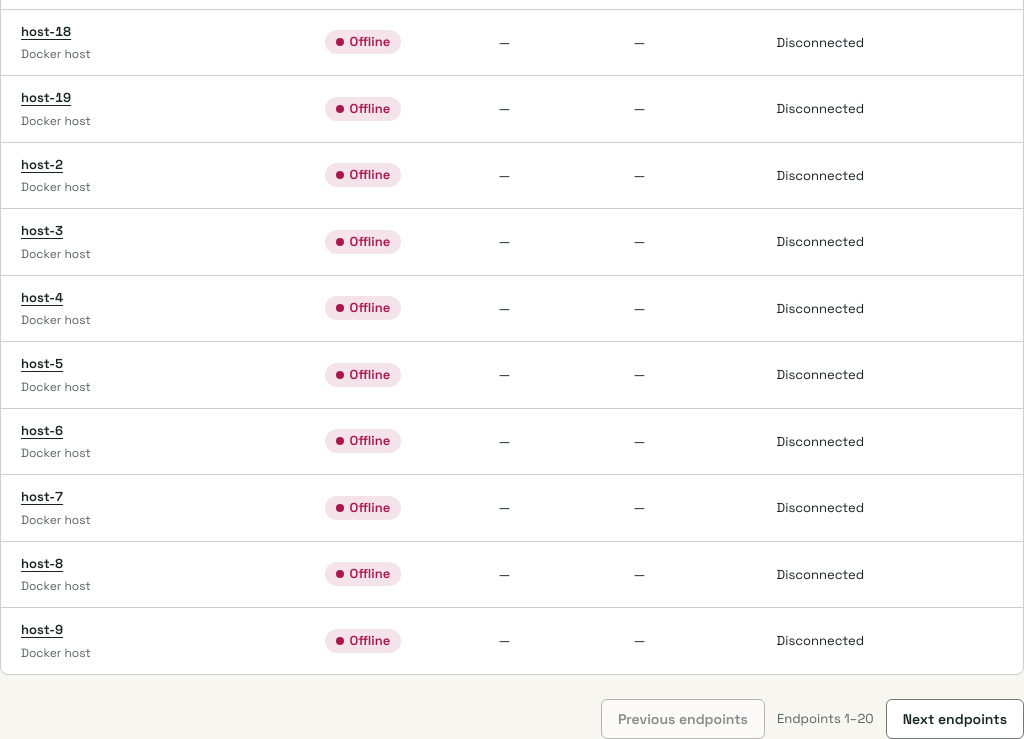
Test case: keeps endpoint discovery bounded at 20 per page
(page scrolled)
Click the button "Next endpoints" at (955, 719), box [886,699,1023,738]
(page scrolled)
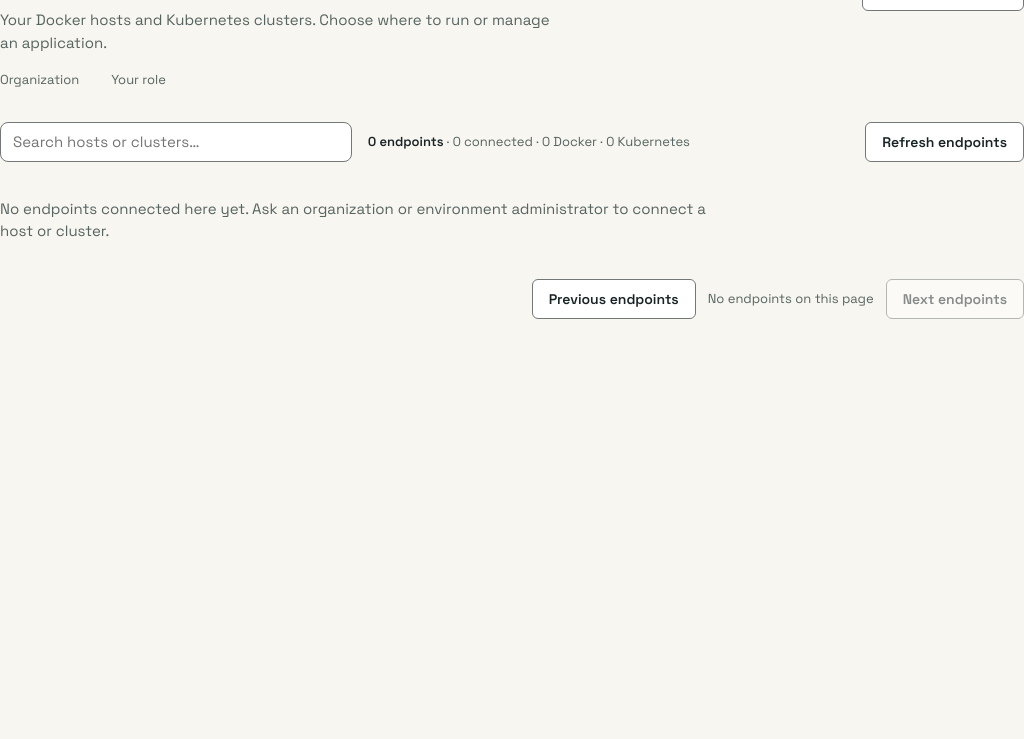
Now the text "No endpoints on this page" is shown, box [708,289,874,308]
